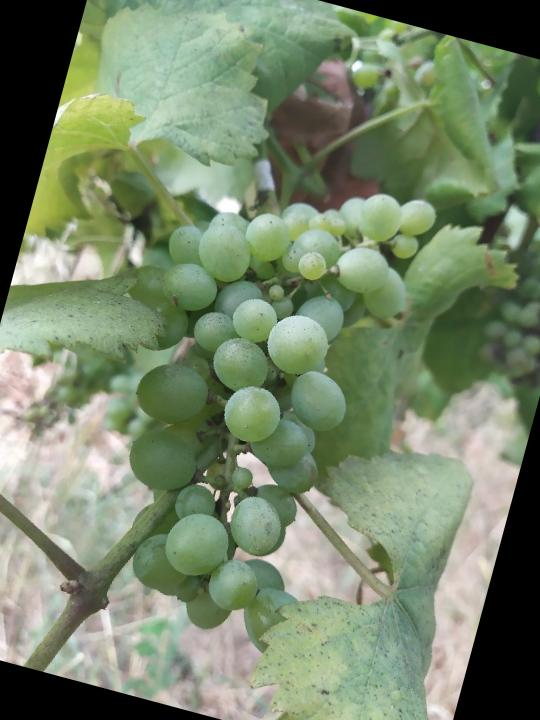grape: (49, 130, 444, 663)
